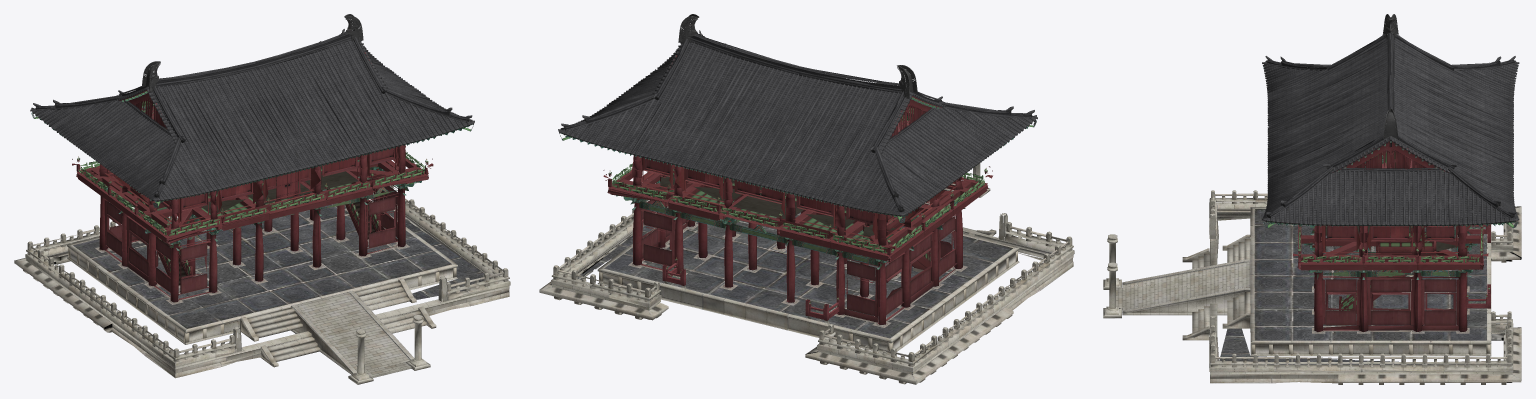
The model's file is gate_e.glb.
3 views of the same model, side by side, from view 1: azimuth 30°, elevation 25°; view 2: azimuth 150°, elevation 25°; view 3: azimuth 270°, elevation 25° (orthographic). The views are drawn at different scales.
Parts seen in each view (by area): view 1: SM_CWEB_003_GIWA, SM_CWEB_003_JEONDOL_M002, SM_CWEB_003_GIWA_SM_CWEB_003_GIWA_0.001, SM_CWEB_003_WOLDAE_M003, SM_CWEB_003_GIDUnG_M001, SM_CWEB_003_GWITEUL, SM_CWEB_003_GIDAN_M005, SM_CWEB_003_1F_WALL_M001, SM_CWEB_003_2F_NANGAN, SM_CWEB_003_GIDAN_M004, SM_CWEB_003_WOLDAE_M002, SM_CWEB_003_GIDAN_M003 (+25 smaller); view 2: SM_CWEB_003_GIWA, SM_CWEB_003_GIWA_SM_CWEB_003_GIWA_0.001, SM_CWEB_003_JEONDOL_M002, SM_CWEB_003_GIDAN_M005, SM_CWEB_003_GIDUnG_M001, SM_CWEB_003_GWITEUL, SM_CWEB_003_1F_WALL_M001, SM_CWEB_003_2F_NANGAN, SM_CWEB_003_GIDAN_M004, SM_CWEB_003_CHEOMASEOG_M002, SM_CWEB_003_NANGANSEOG_M002, SM_CWEB_003_NANGANSEOG_M004 (+20 smaller); view 3: SM_CWEB_003_GIWA, SM_CWEB_003_JEONDOL_M002, SM_CWEB_003_GIWA_SM_CWEB_003_GIWA_0.001, SM_CWEB_003_WOLDAE_M003, SM_CWEB_003_GIDAN_M005, SM_CWEB_003_1F_WALL_M001, SM_CWEB_003_GWITEUL, SM_CWEB_003_GIDAN_M004, SM_CWEB_003_CHEOMASEOG_M001, SM_CWEB_003_1F_WALL_M002, SM_CWEB_003_GIDUnG_M001, SM_CWEB_003_2F_NANGAN (+25 smaller).
Boxes of the visible parts, bbox=[...] form: SM_CWEB_003_GIWA: bbox=[30, 27, 474, 201]; SM_CWEB_003_JEONDOL_M002: bbox=[73, 190, 451, 328]; SM_CWEB_003_GIWA_SM_CWEB_003_GIWA_0.001: bbox=[31, 32, 474, 201]; SM_CWEB_003_WOLDAE_M003: bbox=[291, 291, 413, 377]; SM_CWEB_003_GIDUnG_M001: bbox=[99, 178, 405, 302]; SM_CWEB_003_GWITEUL: bbox=[76, 160, 428, 243]; SM_CWEB_003_GIDAN_M005: bbox=[67, 201, 457, 344]; SM_CWEB_003_1F_WALL_M001: bbox=[104, 183, 398, 299]; SM_CWEB_003_2F_NANGAN: bbox=[72, 152, 433, 238]; SM_CWEB_003_GIDAN_M004: bbox=[25, 192, 510, 367]; SM_CWEB_003_WOLDAE_M002: bbox=[240, 307, 320, 367]; SM_CWEB_003_GIDAN_M003: bbox=[26, 192, 509, 369]; SM_CWEB_003_GIWA: bbox=[558, 29, 1037, 216]; SM_CWEB_003_GIWA_SM_CWEB_003_GIWA_0.001: bbox=[563, 37, 1036, 216]; SM_CWEB_003_JEONDOL_M002: bbox=[604, 212, 1012, 338]; SM_CWEB_003_GIDAN_M005: bbox=[597, 227, 1019, 355]; SM_CWEB_003_GIDUnG_M001: bbox=[633, 192, 962, 324]; SM_CWEB_003_GWITEUL: bbox=[607, 169, 988, 261]; SM_CWEB_003_1F_WALL_M001: bbox=[641, 196, 957, 322]; SM_CWEB_003_2F_NANGAN: bbox=[603, 163, 992, 256]; SM_CWEB_003_GIDAN_M004: bbox=[551, 212, 1074, 372]; SM_CWEB_003_CHEOMASEOG_M002: bbox=[805, 307, 1013, 384]; SM_CWEB_003_NANGANSEOG_M002: bbox=[551, 217, 1073, 364]; SM_CWEB_003_NANGANSEOG_M004: bbox=[553, 200, 1072, 362]; SM_CWEB_003_GIWA: bbox=[1262, 30, 1519, 225]; SM_CWEB_003_JEONDOL_M002: bbox=[1254, 209, 1486, 340]; SM_CWEB_003_GIWA_SM_CWEB_003_GIWA_0.001: bbox=[1262, 39, 1519, 226]; SM_CWEB_003_WOLDAE_M003: bbox=[1116, 259, 1250, 315]; SM_CWEB_003_GIDAN_M005: bbox=[1250, 207, 1491, 356]; SM_CWEB_003_1F_WALL_M001: bbox=[1322, 276, 1459, 330]; SM_CWEB_003_GWITEUL: bbox=[1297, 226, 1483, 270]; SM_CWEB_003_GIDAN_M004: bbox=[1209, 202, 1513, 371]; SM_CWEB_003_CHEOMASEOG_M001: bbox=[1338, 327, 1521, 384]; SM_CWEB_003_1F_WALL_M002: bbox=[1366, 276, 1414, 330]; SM_CWEB_003_GIDUnG_M001: bbox=[1314, 163, 1467, 332]; SM_CWEB_003_2F_NANGAN: bbox=[1293, 225, 1488, 264].
Bounding box in the file's own units: 27.3 × 17.46 × 27.85.
Materials: 66 (66 with a texture image).
